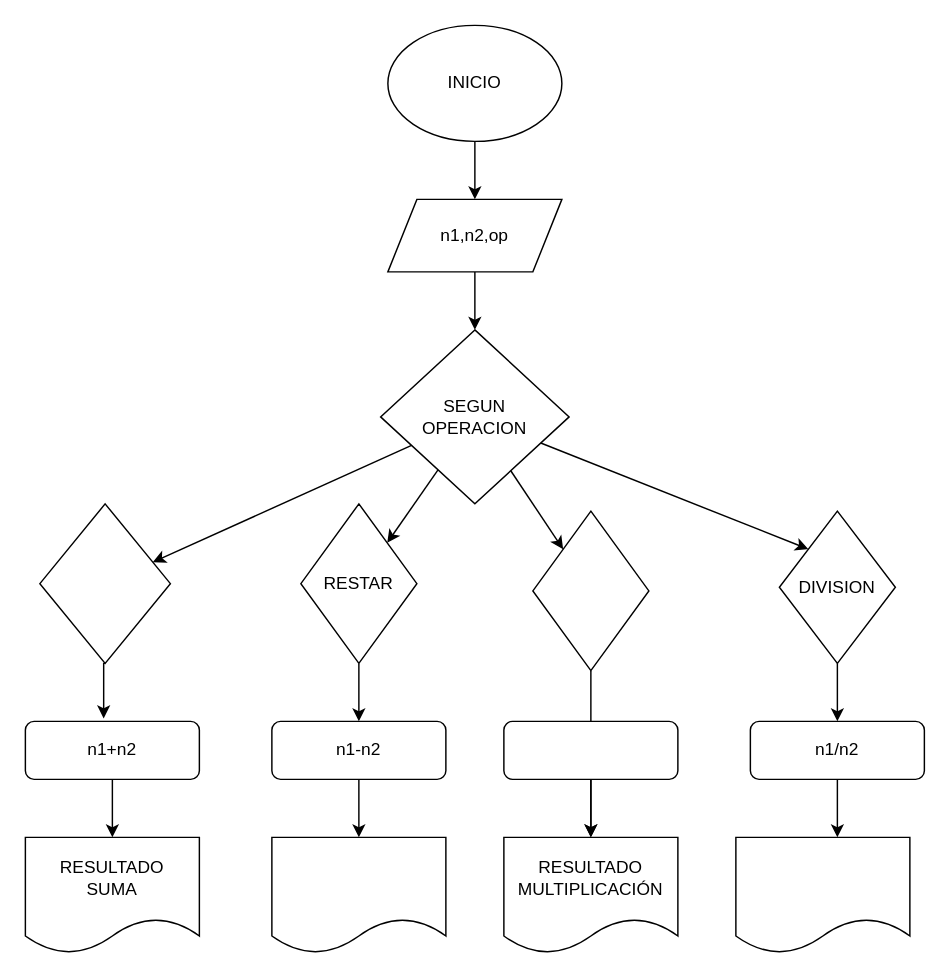
This 950x979 diagram has some shape labels left out. The centre of each missing label's shape, as x and y in pixels:
"MULTIPLICAR" belongs at point 590,590.
"n1*n2" belongs at point 590,749.
"RESULTADO DIVISIOÖN" belongs at point 822,894.
"RESULTADO RESTA" belongs at point 358,894.
"SUMAR" belongs at point 104,582.
